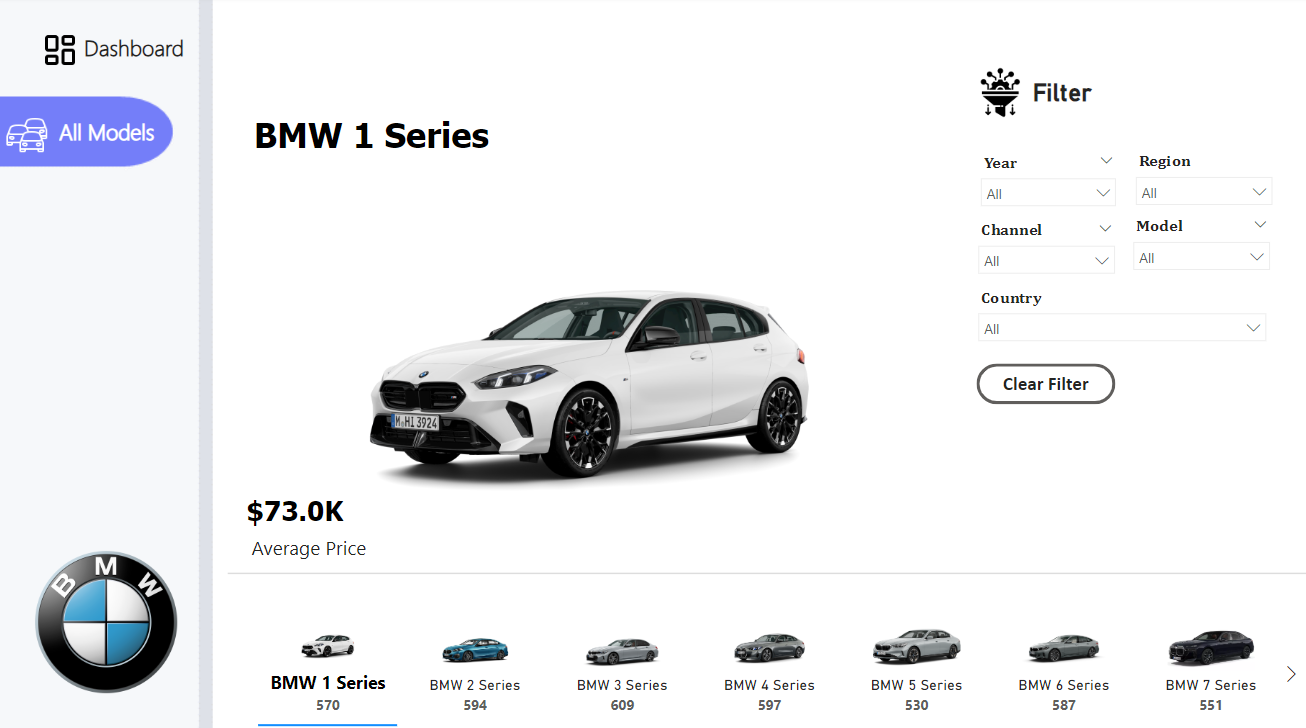

What the dashboard file says about the page in this screenshot:
{"tool":"powerbi","page":{"name":"Page 2","canvas":[1280,720],"ordinal":1},"visuals":[{"type":"advancedSlicerVisual","fields":{"Values":["model.Model"]},"box":[229.2,606.5,1051.1,113.9],"z":1000},{"type":"advancedSlicerVisual","fields":{"Values":["model.Model"]},"box":[228.7,183.4,693.3,369.3],"z":2000},{"type":"shape","box":[249.7,100.2,307.4,70],"z":3000},{"type":"shape","box":[242.1,468.3,308.2,69.7],"z":4000},{"type":"textbox","box":[242.1,522.1,161.4,41.6],"z":5000},{"type":"textbox","box":[53.8,112.5,133.3,50.1],"z":6000},{"type":"image","box":[0,111.3,55,50.1],"z":7000},{"type":"textbox","box":[78.3,30.6,150.4,57.5],"z":8000},{"type":"image","box":[26.9,30.6,64.8,45.2],"z":9000},{"type":"slicer","fields":{"Values":["Calendar.Year"]},"box":[949.6,148.2,152.3,64.5],"z":10000},{"type":"slicer","fields":{"Values":["country.Region"]},"box":[1101.9,146.8,153.7,64.5],"z":11000},{"type":"slicer","fields":{"Values":["channel.Channel"]},"box":[948.2,214.1,153.7,64.5],"z":12000},{"type":"slicer","fields":{"Values":["model.Model"]},"box":[1099.1,209.9,153.7,64.5],"z":13000},{"type":"slicer","fields":{"Values":["country.Country"]},"box":[948.2,279.9,301.9,64.5],"z":14000},{"type":"textbox","box":[1005.8,75.5,94.7,45.3],"z":14002},{"type":"image","box":[940,64.5,78.2,59],"z":14003},{"type":"actionButton","title":"Clear Filter","box":[956.4,359.5,135.8,39.8],"z":14004},{"type":"textbox","box":[977,363.6,135.8,35.7],"z":14005},{"type":"image","box":[0,538,210.3,149.2],"z":14006}]}

Visuals, with their boxes in screenshot pixels (x1, y1, x2, y2), scaled from the page's 1280x720 canvas onto the 1306x728 screenshot:
advancedSlicerVisual - model.Model: <box>234,613,1305,727</box>
advancedSlicerVisual - model.Model: <box>233,185,941,559</box>
shape: <box>255,101,568,172</box>
shape: <box>247,474,561,544</box>
textbox: <box>247,528,412,570</box>
textbox: <box>55,114,191,164</box>
image: <box>0,113,56,163</box>
textbox: <box>80,31,233,89</box>
image: <box>27,31,94,77</box>
slicer - Calendar.Year: <box>969,150,1124,215</box>
slicer - country.Region: <box>1124,148,1281,214</box>
slicer - channel.Channel: <box>967,216,1124,282</box>
slicer - model.Model: <box>1121,212,1278,277</box>
slicer - country.Country: <box>967,283,1275,348</box>
textbox: <box>1026,76,1123,122</box>
image: <box>959,65,1039,125</box>
"Clear Filter" actionButton: <box>976,363,1114,404</box>
textbox: <box>997,368,1135,404</box>
image: <box>0,544,215,695</box>
